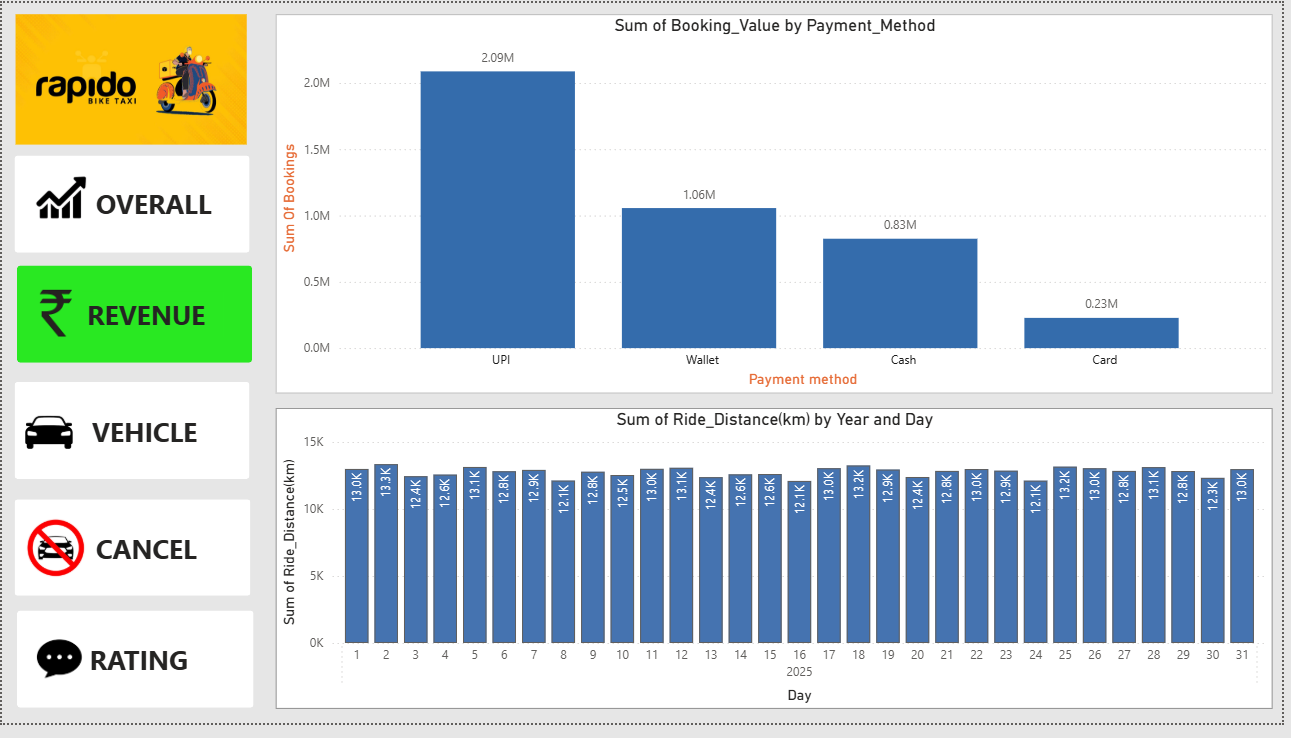

The page's visual inventory and layout, read from the dashboard file:
{"tool":"powerbi","page":{"name":"revenue","canvas":[1280,720],"ordinal":1},"visuals":[{"type":"shape","box":[0,0,260.7,720.4],"z":0},{"type":"image","box":[8.7,0,240.9,152.4],"z":1000},{"type":"shape","box":[13.1,152.4,235.1,97.2],"z":2000},{"type":"shape","box":[14.5,262.7,235.1,97.2],"z":3000},{"type":"shape","box":[13.1,378.8,235.1,97.2],"z":4000},{"type":"shape","box":[12.8,496.5,236,96.5],"z":5000},{"type":"shape","box":[14.5,608.1,236.6,97.2],"z":6000},{"type":"columnChart","fields":{"Y":["Sum(rapido_july2025_data.Booking_Value)"],"Category":["rapido_july2025_data.Payment_Method"]},"box":[273.3,11.6,996.5,379.1],"z":7000},{"type":"image","box":[7.3,61,103,267],"z":8000},{"type":"image","box":[22.9,614.3,70,84.3],"z":9000},{"type":"image","box":[14,491.9,80.2,107],"z":10000},{"type":"image","box":[14,390.7,66.3,75.6],"z":11000},{"type":"image","box":[18.6,274.3,70,72.9],"z":12000},{"type":"textbox","box":[88.4,177.9,133.7,61.6],"z":13000},{"type":"textbox","box":[80.2,288.4,141.9,45.3],"z":14000},{"type":"textbox","box":[84.9,404.7,132.6,46.5],"z":15000},{"type":"textbox","box":[88.4,522.1,143,46.5],"z":16000},{"type":"textbox","box":[82.6,633.7,167.4,47.7],"z":17000},{"type":"columnChart","fields":{"Y":["Sum(rapido_july2025_data.Ride_Distance(km))"],"Category":["rapido_july2025_data.Date.Variation.Date Hierarchy.Year","rapido_july2025_data.Date.Variation.Date Hierarchy.Day"]},"box":[273.3,404.7,996.5,301.2],"z":18000}]}

Visuals, with their boxes in screenshot pixels (x1, y1, x2, y2), scaled from the page's 1280x720 canvas onto the 1291x738 screenshot:
shape: l=0, t=0, r=263, b=737
image: l=9, t=0, r=252, b=156
shape: l=13, t=156, r=250, b=256
shape: l=15, t=269, r=252, b=369
shape: l=13, t=388, r=250, b=488
shape: l=13, t=509, r=251, b=608
shape: l=15, t=623, r=253, b=723
columnChart - Sum(rapido_july2025_data.Booking_Value) x rapido_july2025_data.Payment_Method: l=276, t=12, r=1281, b=400
image: l=7, t=63, r=111, b=336
image: l=23, t=630, r=94, b=716
image: l=14, t=504, r=95, b=614
image: l=14, t=400, r=81, b=478
image: l=19, t=281, r=89, b=356
textbox: l=89, t=182, r=224, b=245
textbox: l=81, t=296, r=224, b=342
textbox: l=86, t=415, r=219, b=462
textbox: l=89, t=535, r=233, b=583
textbox: l=83, t=650, r=252, b=698
columnChart - Sum(rapido_july2025_data.Ride_Distance(km)) x rapido_july2025_data.Date.Variation.Date Hierarchy.Year: l=276, t=415, r=1281, b=724
